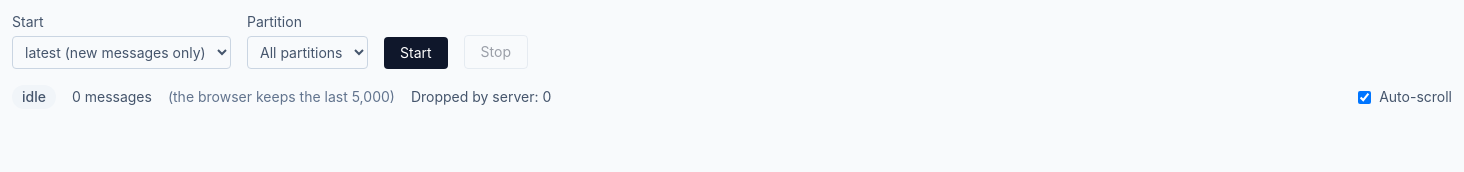
Test: LiveTab › Stop sends "stop" and closes the socket
The width and height of the screenshot is (1464, 172).
Step 1. Click the button "Start" → (416, 53), box [384,37,448,69]
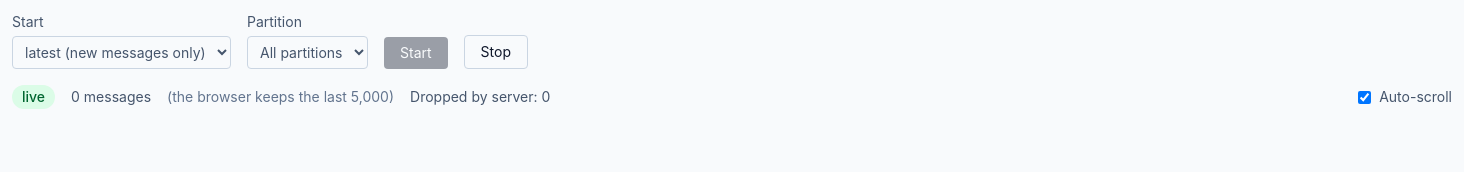
Step 2. Click the button "Stop" → (496, 52), box [464,35,528,69]
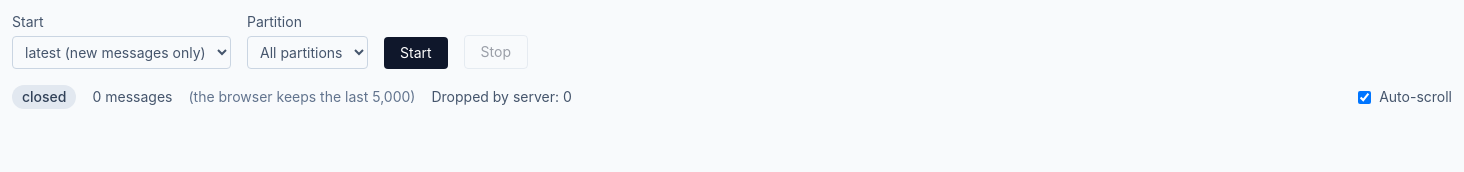
Check: the message reads "closed", box [22,88,66,105]
Check: the button "Start" is enabled, box [384,37,448,69]
